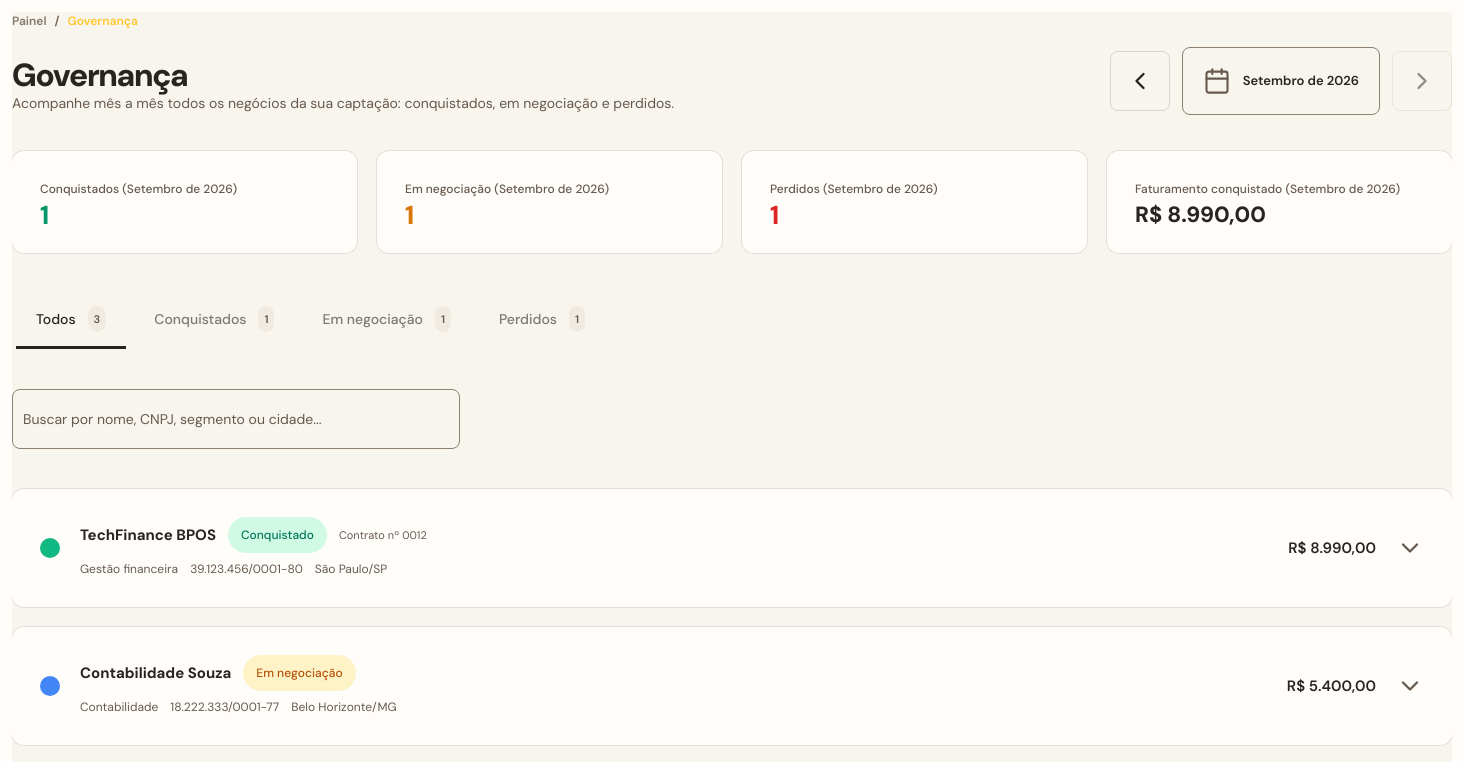
Test: GovernancaPage › mostra estado vazio quando a busca não encontra resultados
Expected: the text "TechFinance BPOS" is shown, [80, 525, 216, 545]
Type "inexistente" into the field with test id "governanca-search" at [236, 419], box [12, 389, 460, 449]
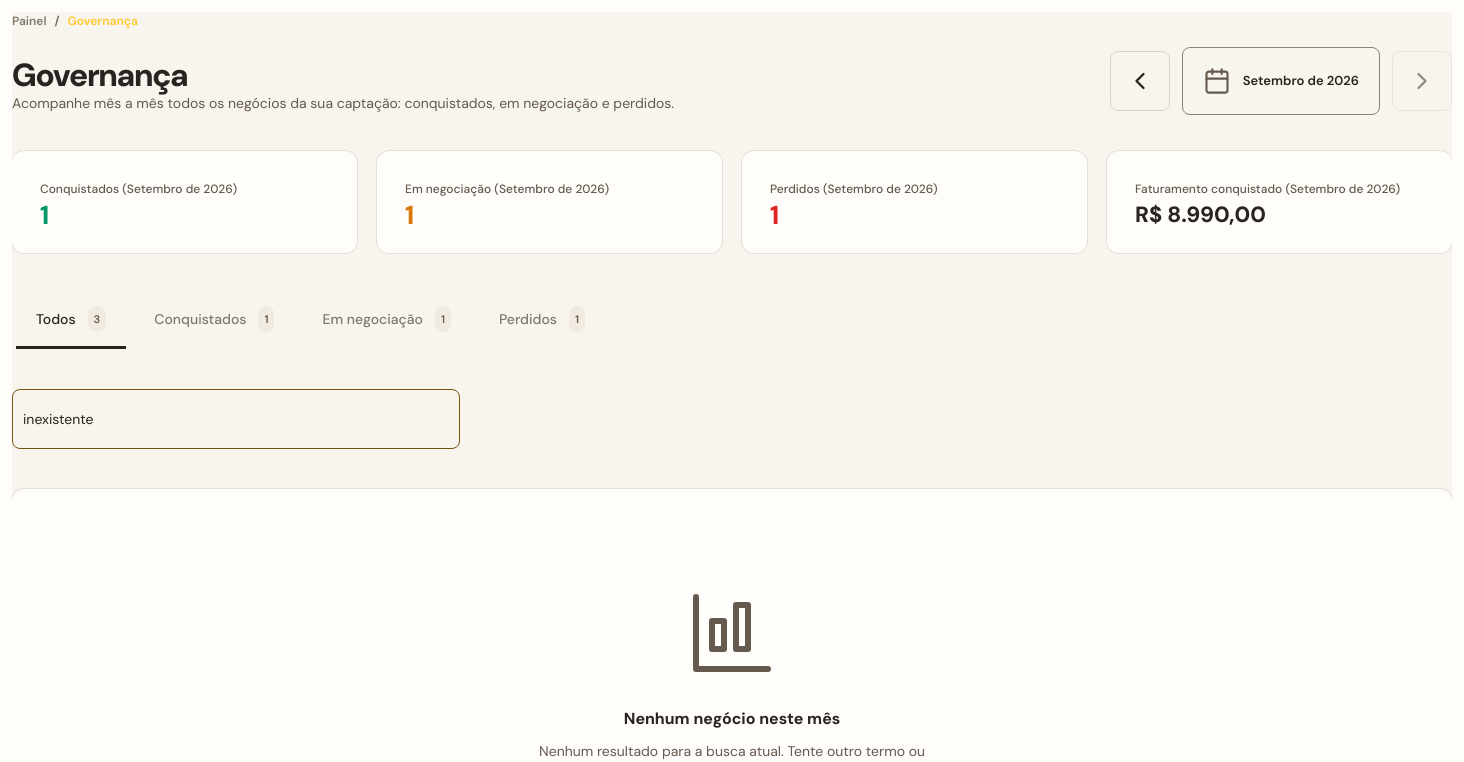
Expected: the heading "Nenhum negócio neste mês" is shown, [624, 708, 840, 729]
